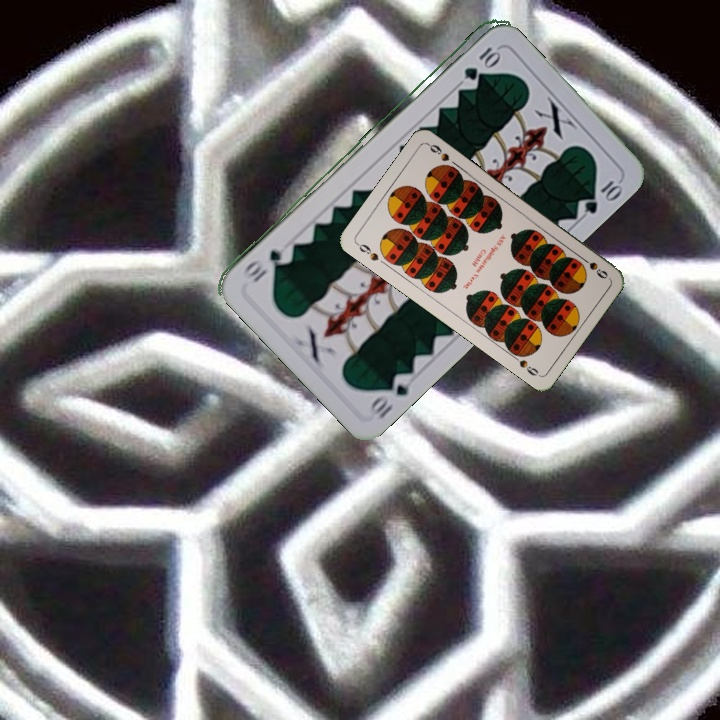G10: (366, 368, 416, 421), (459, 43, 501, 82)
S9: (576, 252, 610, 282), (352, 239, 381, 264)
